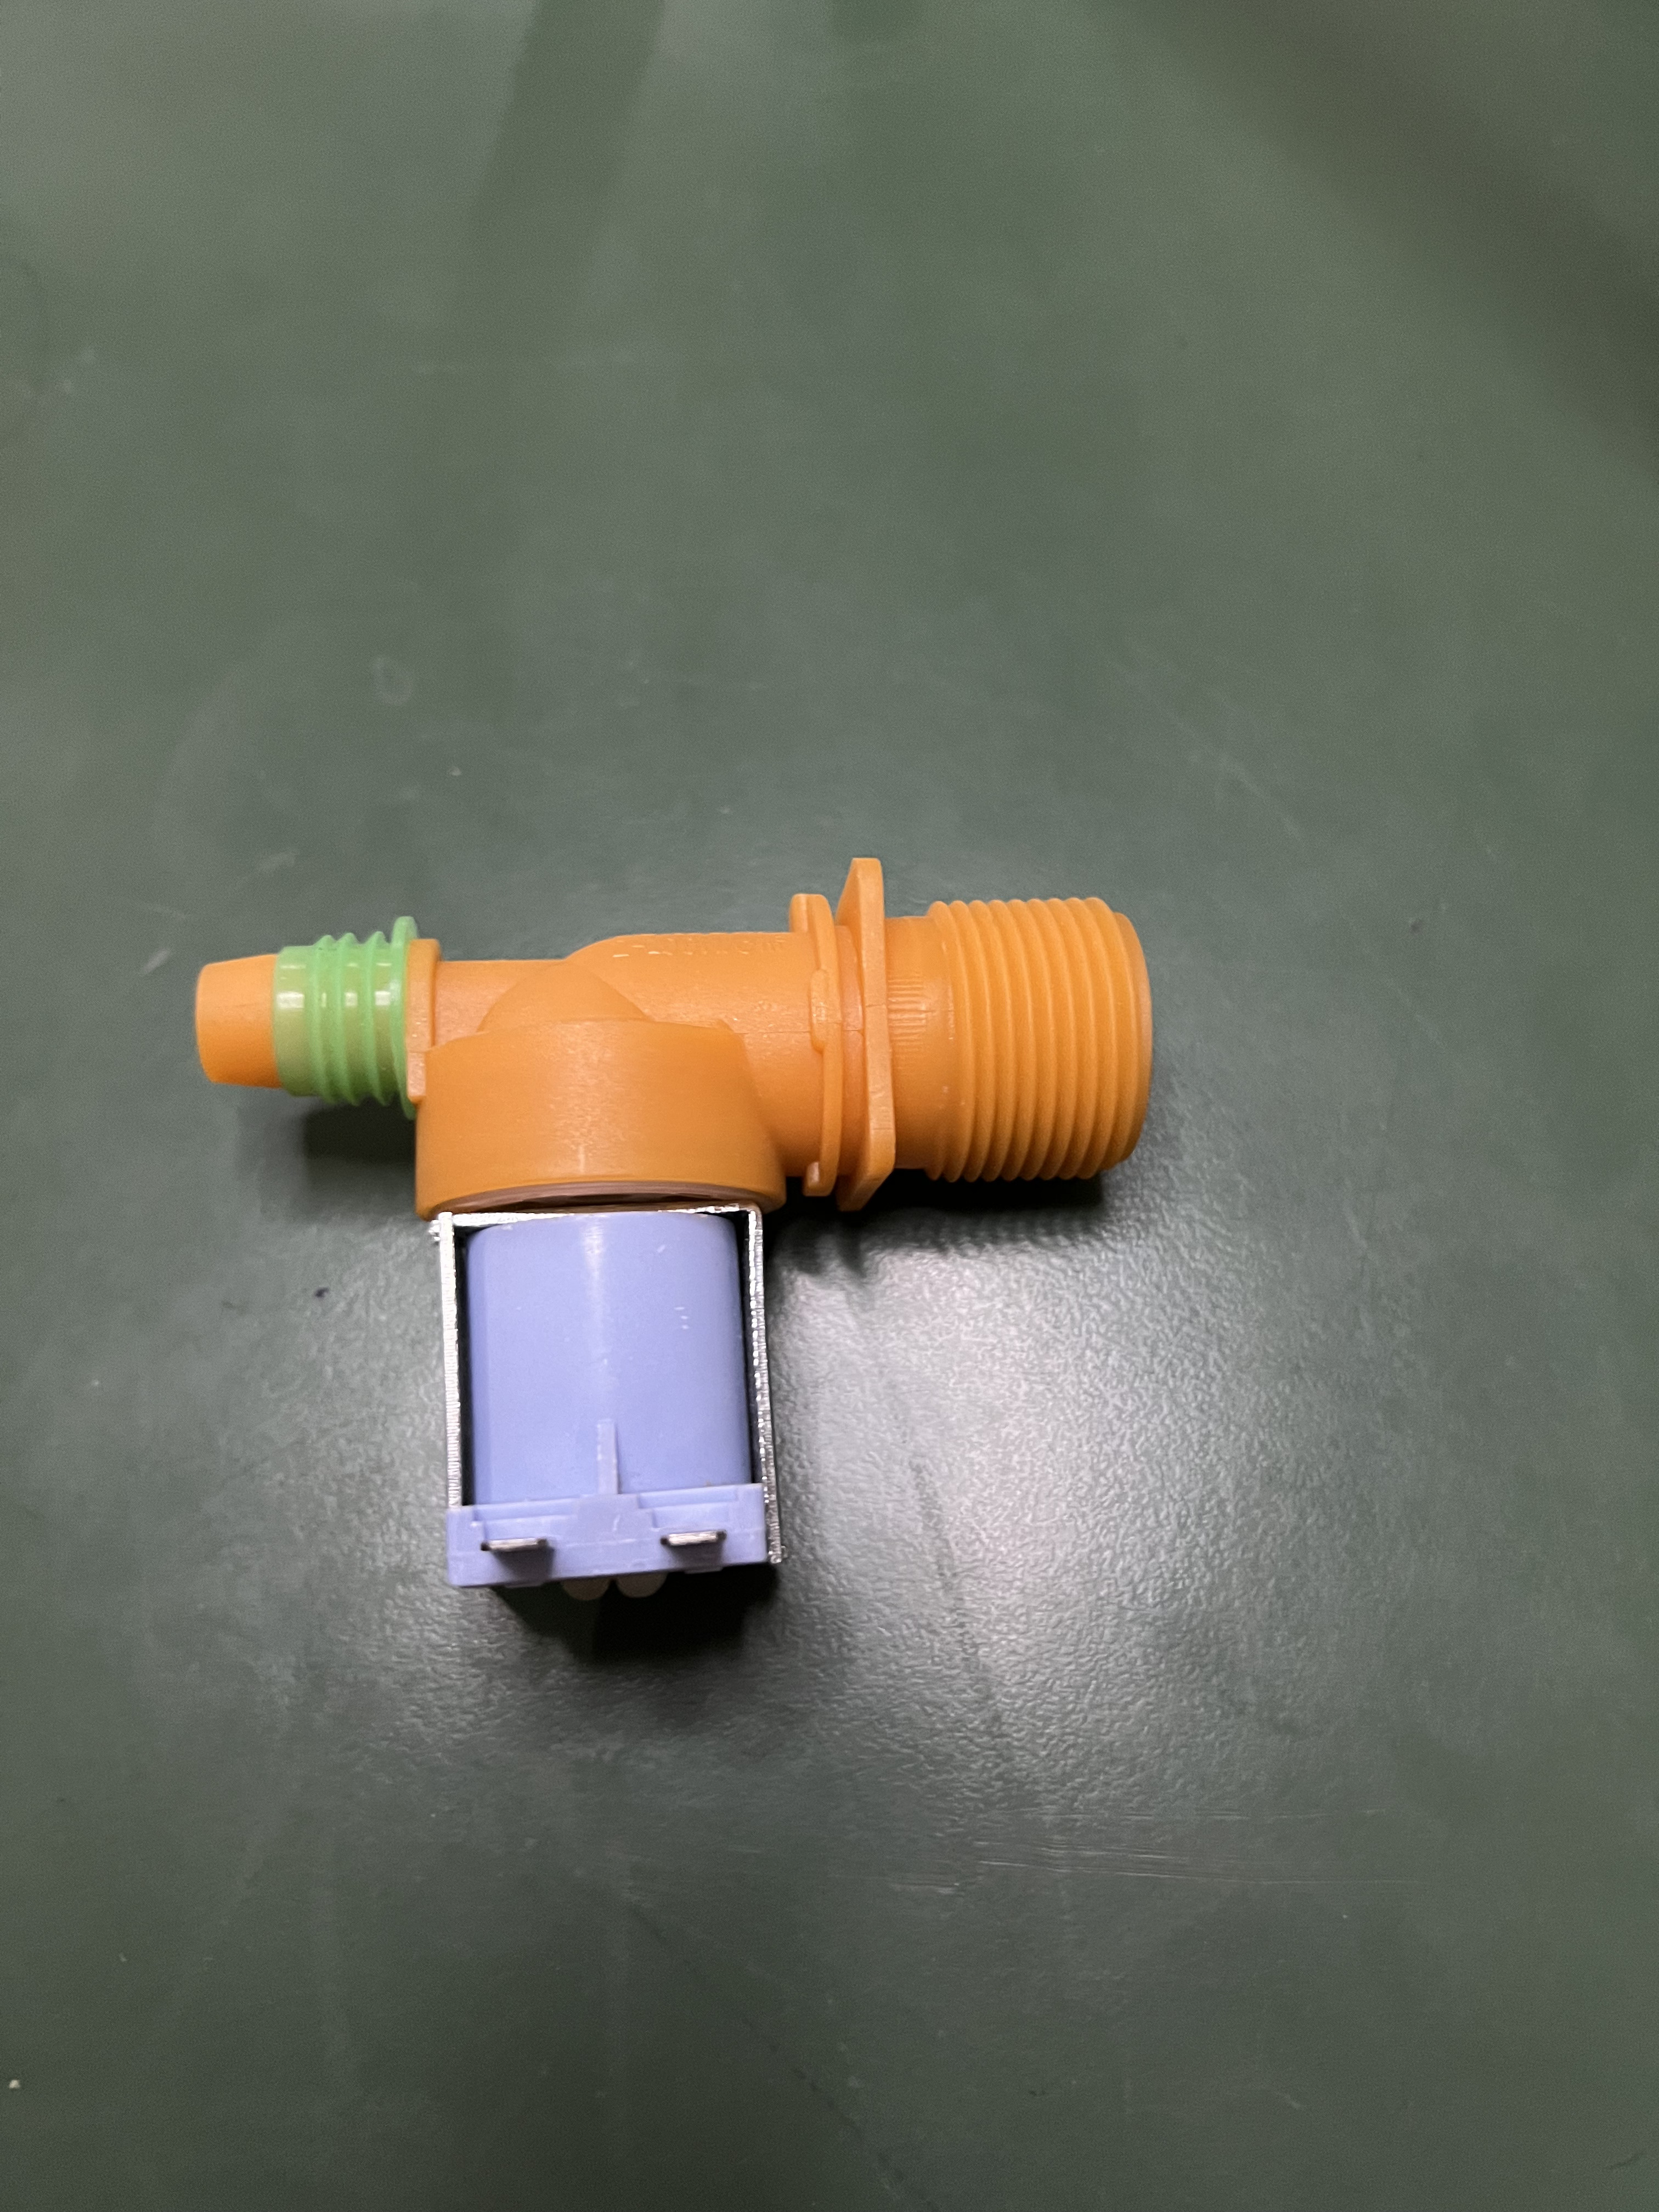ss_inlet_valves: (193, 833, 1241, 1653)
